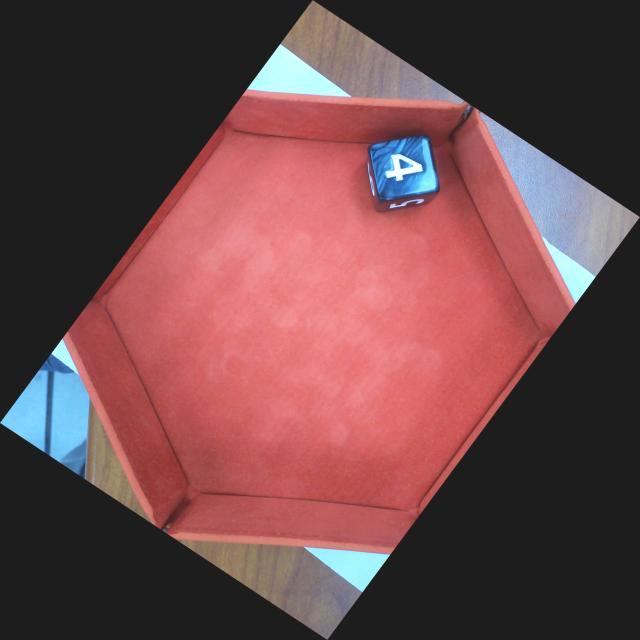dice: (368, 135, 440, 202)
